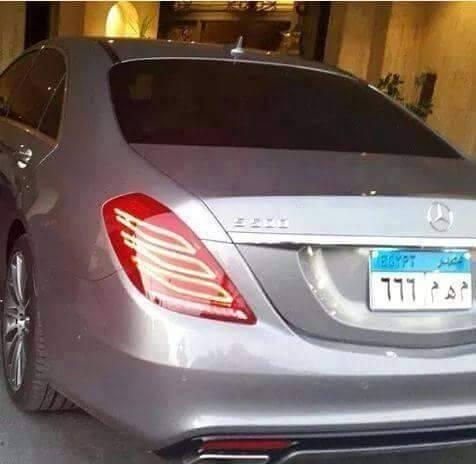6: (377, 275, 393, 304), (391, 276, 405, 302), (405, 277, 418, 303)
Heeh: (443, 283, 458, 302)
License Plate: (366, 246, 475, 314)
Meem: (428, 279, 441, 303), (458, 280, 468, 303)
car: (2, 33, 476, 464)
